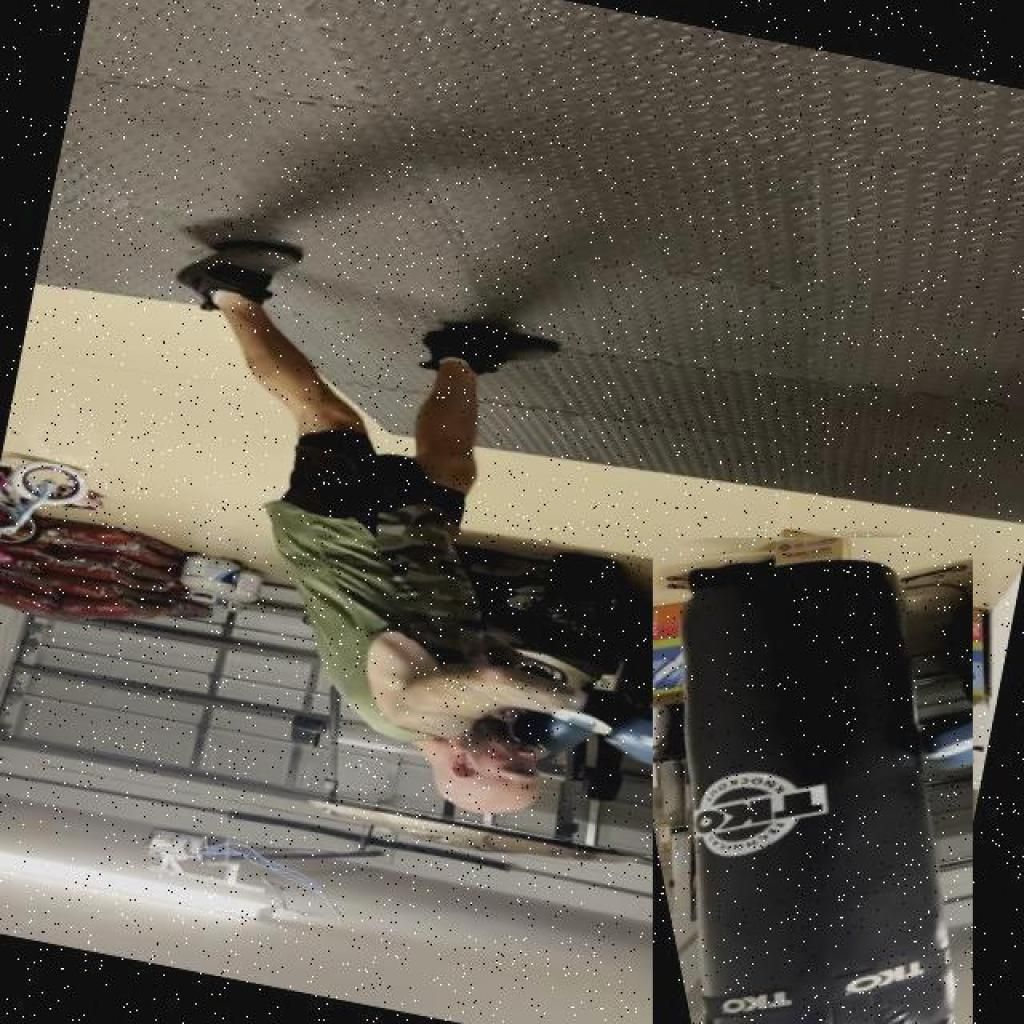cross: (210, 563, 747, 891), (653, 538, 972, 1023)
